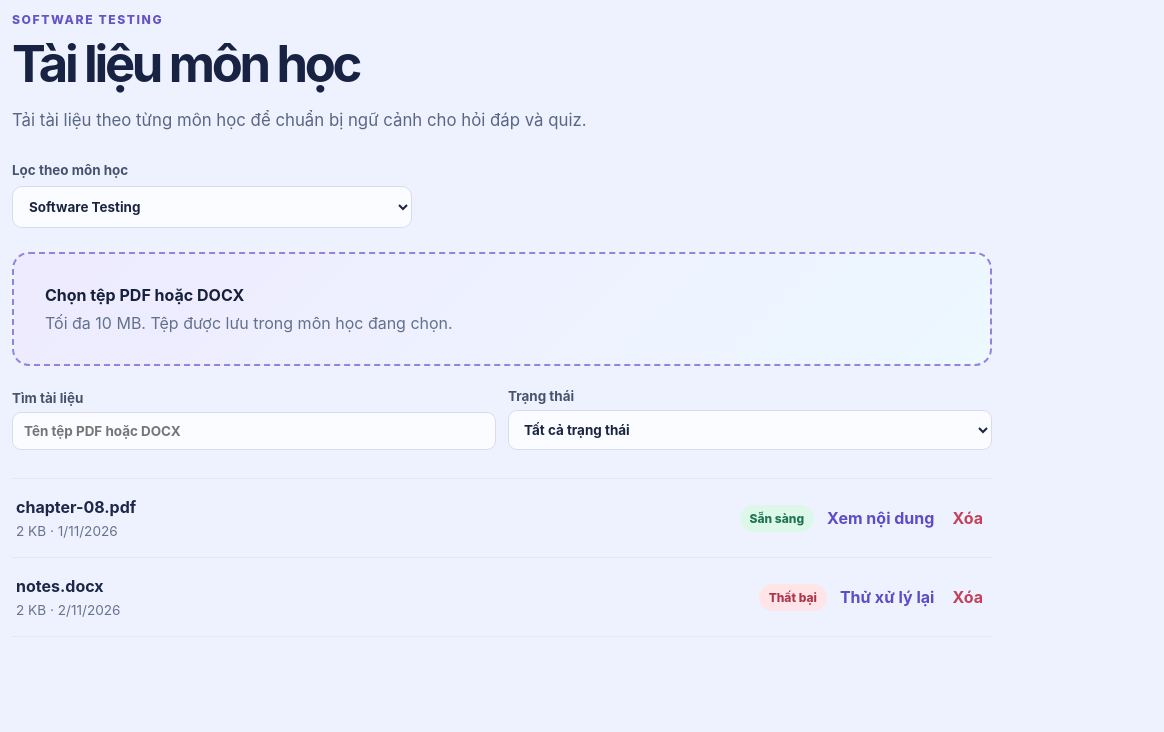
Test case: Document Library UI › filters documents by name and processing status
This screenshot has width=1164, height=732.
expect the heading "chapter-08.pdf" is shown: met, box [16,497,136,517]
Type "notes" into the field labelled "Tìm tài liệu" at point(254, 431), box [12,412,496,450]
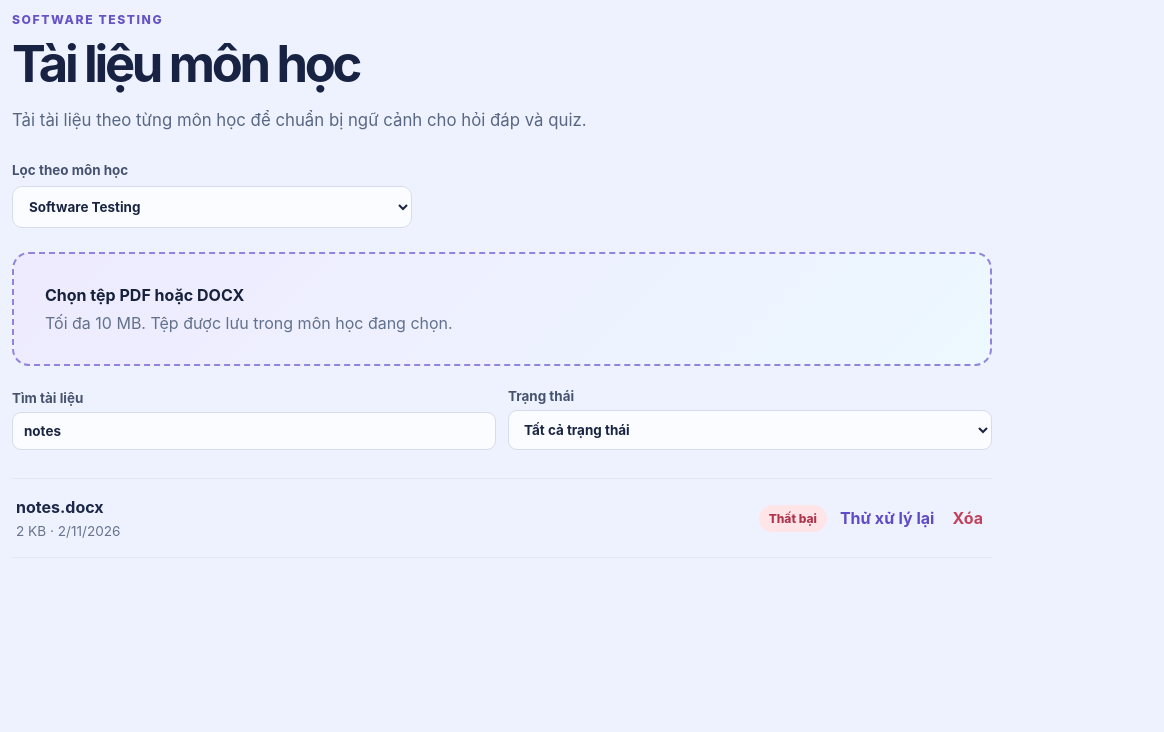
expect the heading "notes.docx" is shown: met, box [16,497,104,517]
expect the heading "chapter-08.pdf" is gone: met
Select "Sẵn sàng" in the dropdown labelled "Trạng thái" at point(750, 430), box [508,410,992,450]
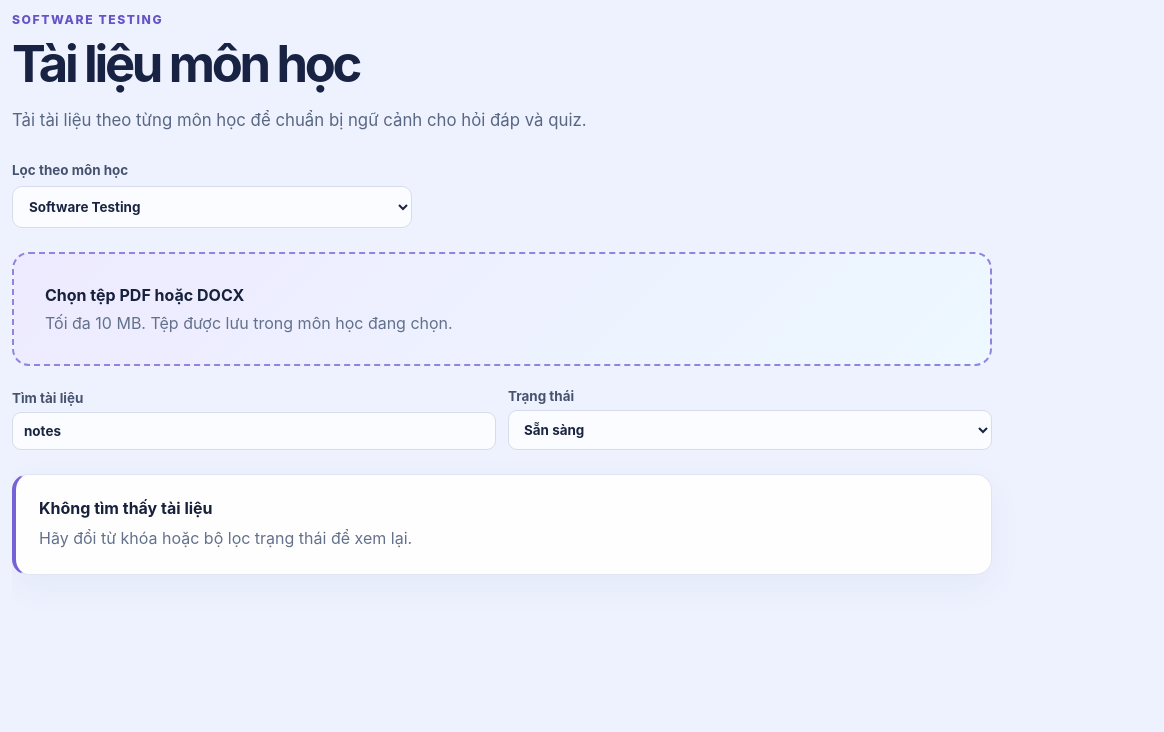
expect the text "Không tìm thấy tài liệu" is shown: met, box [39,498,212,518]
